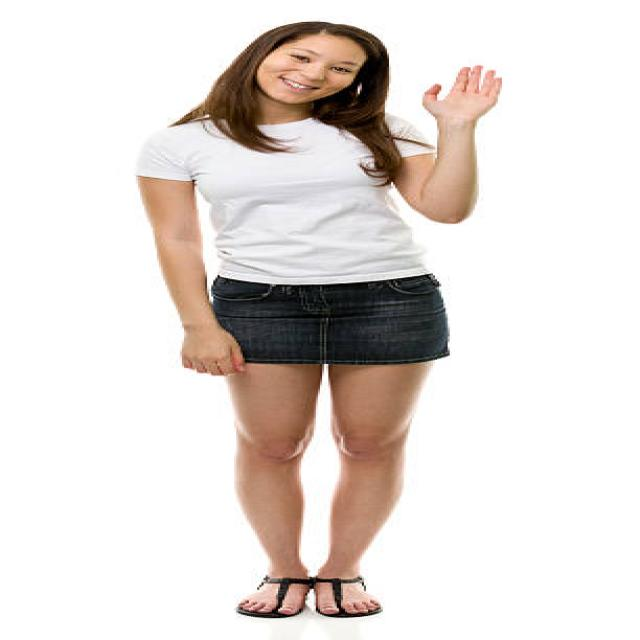Edited images: (114, 20, 506, 636)
